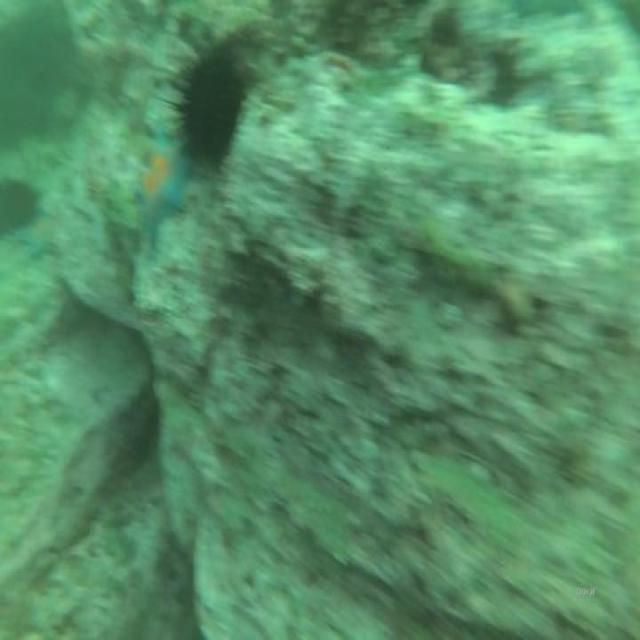echinus: (180, 49, 241, 158)
starfish: (134, 123, 190, 248), (0, 180, 36, 237)
